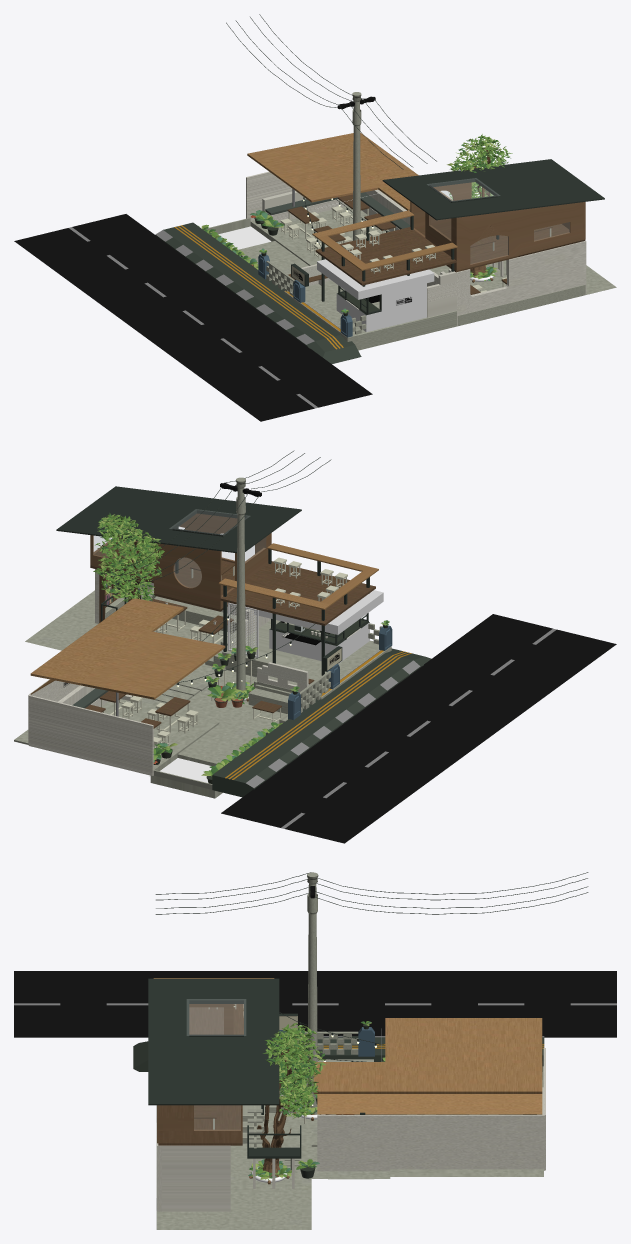
File: winds-space-new.glb
3 renders of one model, top to bottom at view 1: azimuth 30°, elevation 25°; view 2: azimuth 150°, elevation 25°; view 3: azimuth 270°, elevation 25°, orthographic. The views are drawn at different scales.
Parts seen in each view (by area): view 1: jalan poros, Plane.006, trotoar, Plane.008, Cube.013, Cube.003, floor lantai 1, Area bar, floor lantai 2 outdoor, floor lantai 1 area bar, meja atas luar, Pasui - Daun Rindang Lightweight (+9 smaller); view 2: jalan poros, floor lantai 1, Plane.008, trotoar, Plane.006, Plane.007, Cube.013, Pasui - Daun Rindang Lightweight, floor lantai 2 outdoor, Area bar, floor lantai 1 area bar, meja atas luar (+12 smaller); view 3: jalan poros, Plane.006, Plane.008, Plane.007, floor lantai 1, Cube.003, Plane.009, Pasui - Daun Rindang Lightweight, Cube.013, kaca.002, Cylinder, trotoar (+10 smaller).
Part boxes in pixels (x1,y1,x2,y2): jalan poros: (14, 214, 372, 421); Plane.006: (382, 159, 604, 220); trotoar: (155, 222, 361, 363); Plane.008: (247, 133, 452, 210); Cube.013: (410, 182, 585, 270); Cube.003: (457, 241, 586, 326); floor lantai 1: (206, 206, 616, 350); Area bar: (317, 259, 434, 332); floor lantai 2 outdoor: (315, 227, 456, 285); floor lantai 1 area bar: (284, 280, 456, 350); meja atas luar: (312, 210, 457, 270); Pasui - Daun Rindang Lightweight: (447, 134, 512, 200); jalan poros: (221, 614, 616, 843); floor lantai 1: (14, 590, 286, 798); Plane.008: (30, 598, 225, 699); trotoar: (212, 648, 431, 797); Plane.006: (56, 486, 301, 553); Plane.007: (29, 679, 153, 775); Cube.013: (90, 513, 271, 609); Pasui - Daun Rindang Lightweight: (93, 513, 164, 602); floor lantai 2 outdoor: (220, 561, 375, 625); Area bar: (254, 590, 383, 663); floor lantai 1 area bar: (205, 620, 391, 699); meja atas luar: (218, 543, 378, 609); jalan poros: (14, 971, 616, 1037); Plane.006: (148, 978, 279, 1105); Plane.008: (313, 1018, 542, 1093); Plane.007: (317, 1048, 545, 1171); floor lantai 1: (156, 1066, 543, 1229); Cube.003: (157, 1143, 230, 1211); Plane.009: (317, 1094, 542, 1114); Pasui - Daun Rindang Lightweight: (263, 1022, 325, 1118); Cube.013: (157, 1004, 242, 1143); kaca.002: (187, 999, 245, 1035); Cylinder: (307, 872, 318, 1114); trotoar: (133, 1036, 544, 1071).
Size of the model in its own units: 16.15 by 8.28 by 16.65.
98 materials, 64 textured.
